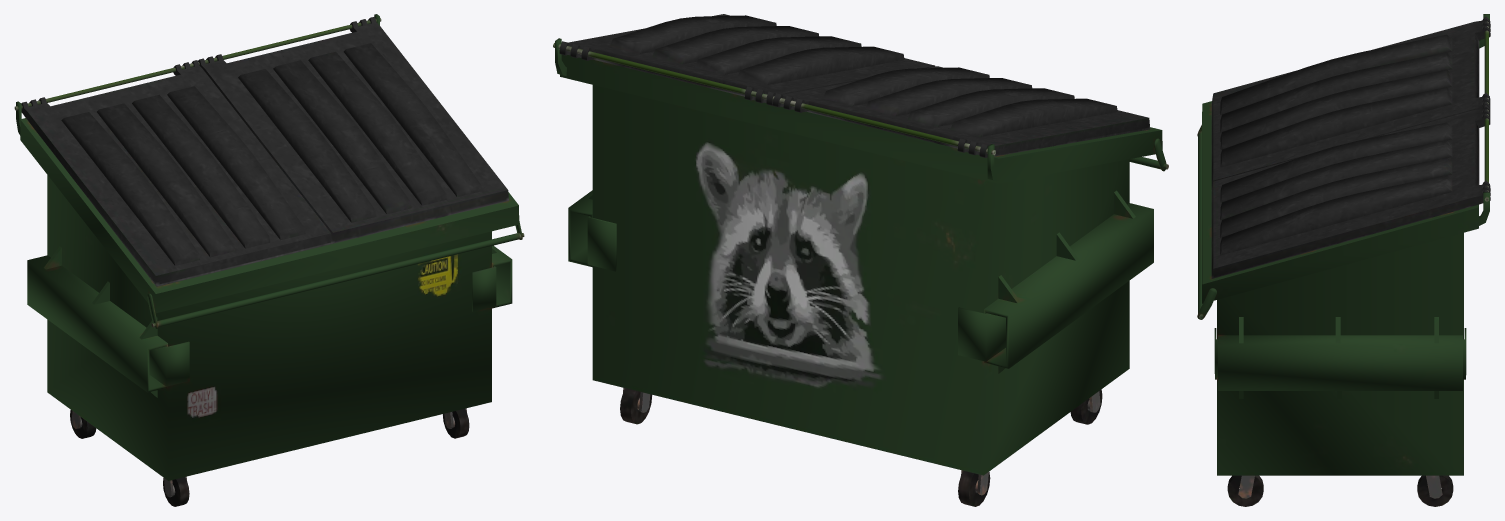
The model's file is alley_dumpster.glb.
The picture shows the model from 3 angles, left to right: view 1: azimuth 30°, elevation 25°; view 2: azimuth 150°, elevation 25°; view 3: azimuth 270°, elevation 25°; orthographic projection. The views are drawn at different scales.
Parts seen in each view (by area): view 1: 4_low, 5_low, 6_low, 10_low, 7_low, 3_low, 9_low; view 2: 4_low, 5_low, 6_low, 7_low, 3_low, 9_low; view 3: 5_low, 4_low, 6_low, 3_low, 10_low, 9_low, 7_low.
Part boxes in pixels (x1,y1,x2,y2): 4_low: [20, 118, 519, 480]; 5_low: [21, 16, 508, 286]; 6_low: [27, 245, 512, 397]; 10_low: [151, 233, 524, 327]; 7_low: [149, 266, 496, 386]; 3_low: [70, 408, 469, 506]; 9_low: [14, 18, 381, 110]; 4_low: [560, 54, 1162, 475]; 5_low: [559, 14, 1150, 157]; 6_low: [568, 190, 1153, 373]; 7_low: [587, 216, 1005, 361]; 3_low: [620, 388, 1102, 506]; 9_low: [553, 43, 995, 155]; 5_low: [1211, 16, 1490, 278]; 4_low: [1202, 101, 1478, 475]; 6_low: [1218, 317, 1462, 398]; 3_low: [1227, 475, 1453, 506]; 10_low: [1198, 131, 1203, 318]; 9_low: [1484, 21, 1488, 201]; 7_low: [1214, 328, 1466, 379].
Size of the model in its own units: 2.81 by 2.36 by 1.89.
1 material, 1 textured.
